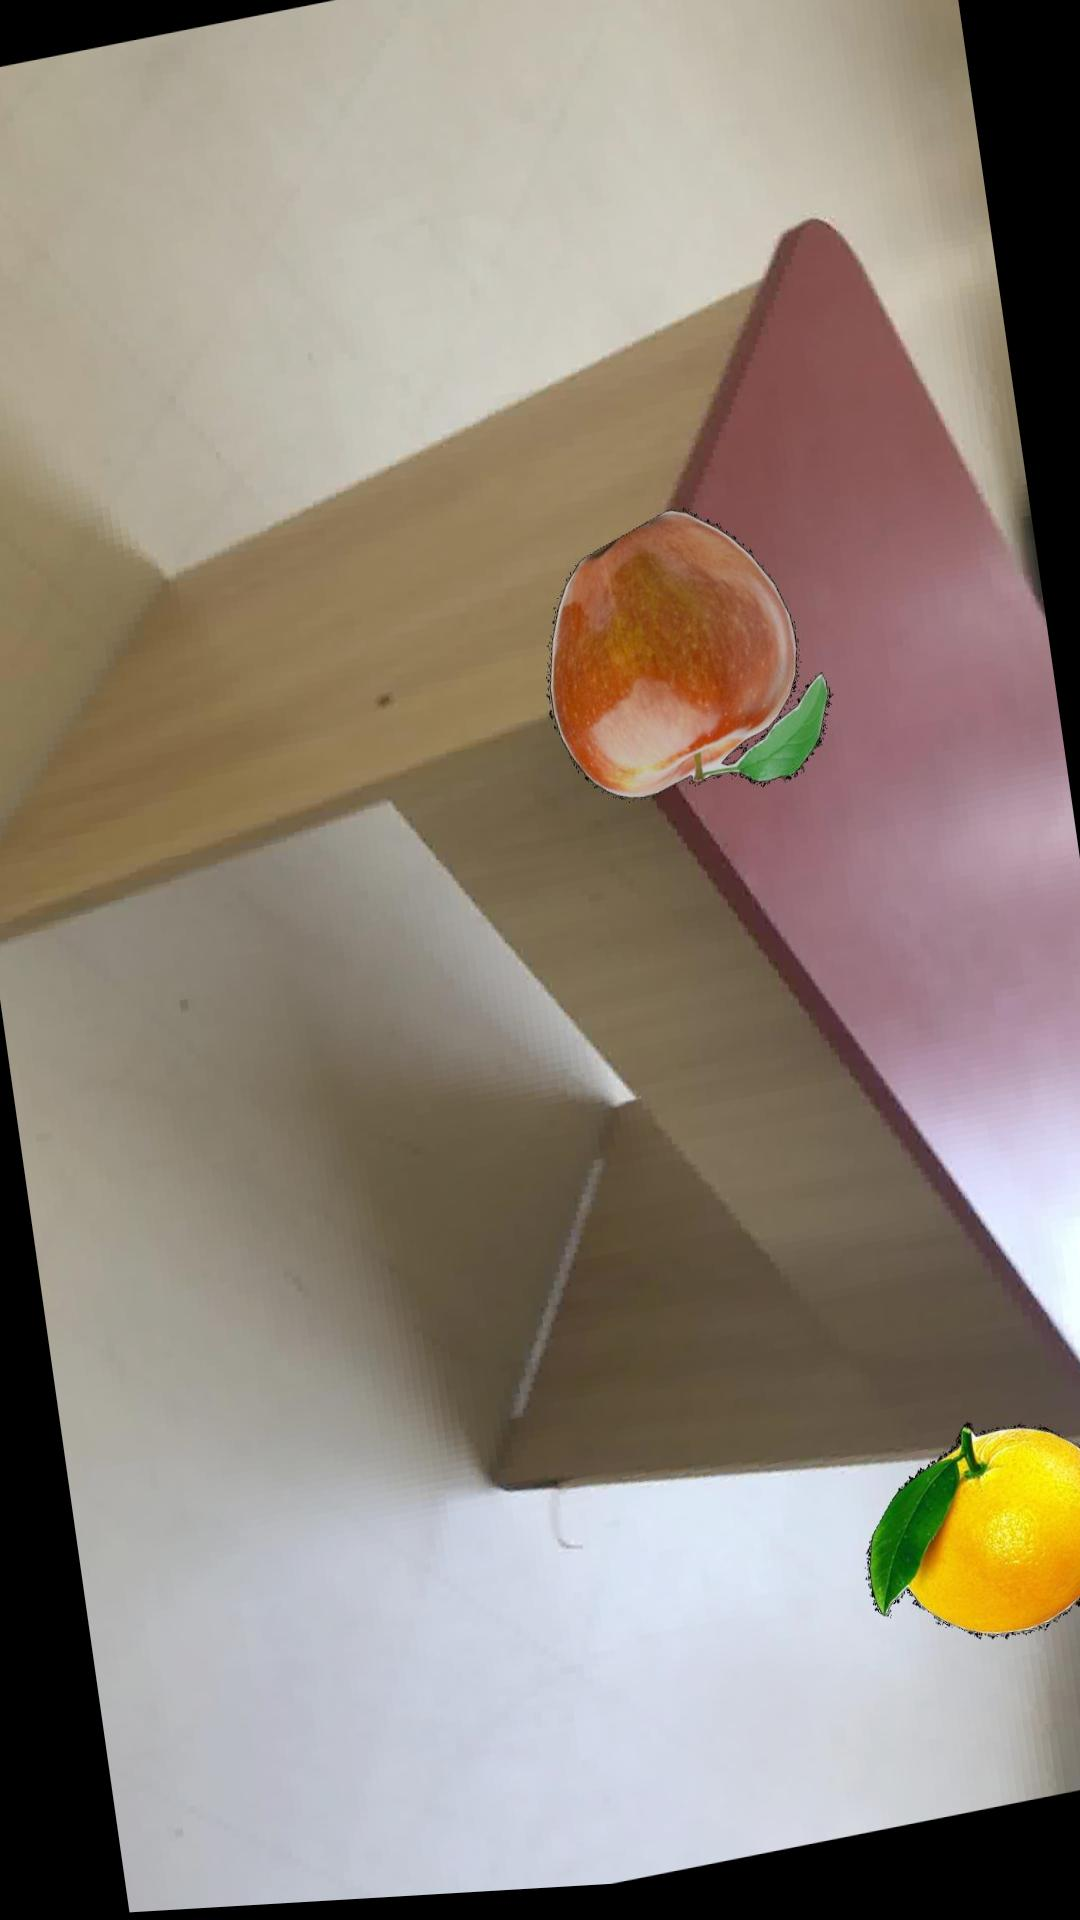apple: (549, 520, 831, 808)
orange: (865, 1435, 1080, 1654)
